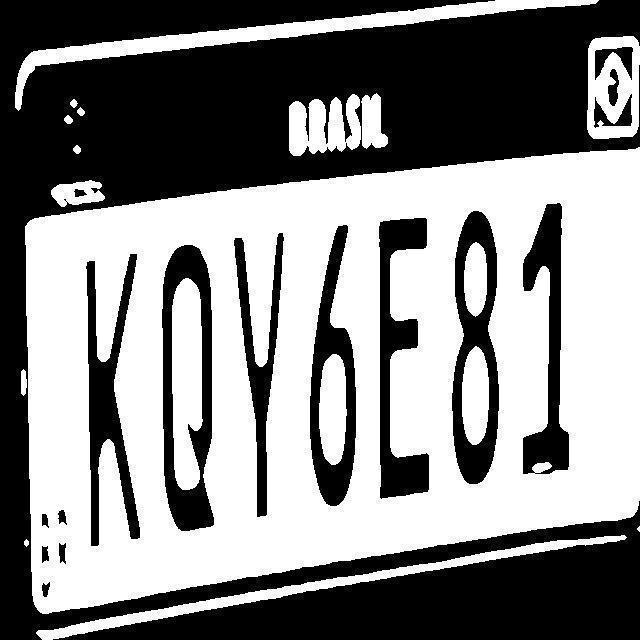1: (518, 198, 578, 476)
6: (304, 215, 362, 510)
8: (448, 206, 506, 490)
e: (374, 215, 437, 504)
k: (72, 244, 138, 556)
q: (151, 232, 217, 540)
y: (228, 220, 288, 524)
